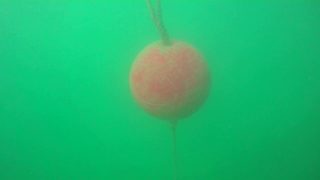buoy: (128, 39, 212, 122)
